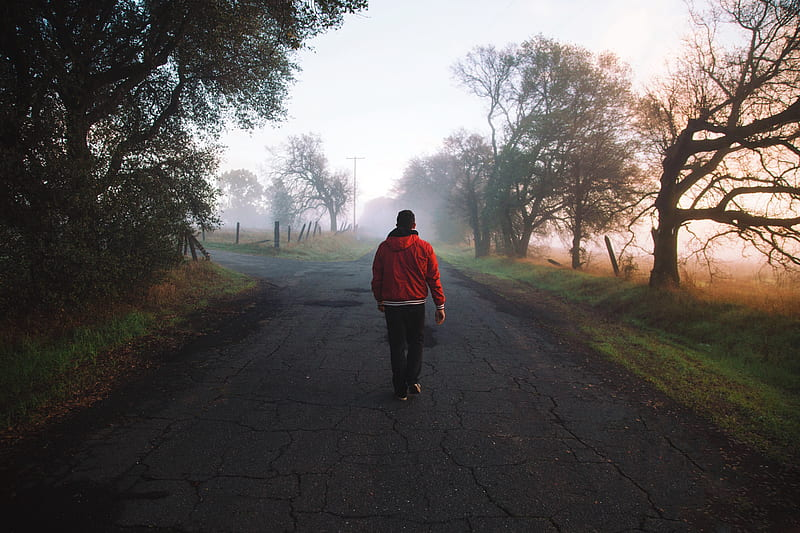Person: (365, 204, 452, 413)
Tree: (518, 56, 636, 272)
